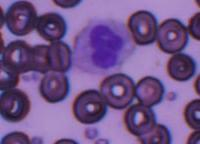N: (72, 18, 135, 76)
